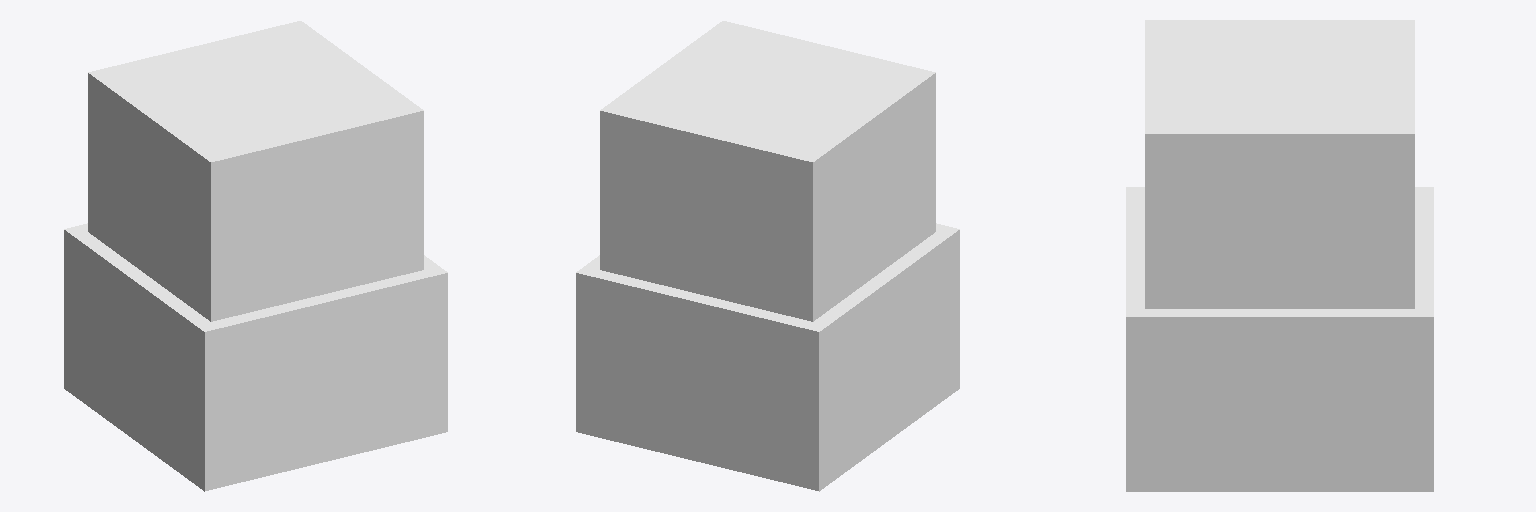
robot.urdf — flat_slab:
<robot name="flat_slab">
	<link name="_name">
		<visual>
			<origin rpy="0 0 0" xyz="0.0 0.0 -0.009558823529411765" />
			<geometry>
				<mesh filename="flat_slab.obj" scale=".001 .001 .001" />
			</geometry>
			<material name="texture">
				<color rgba="1.0 1.0 1.0 1.0" />
			</material>
		</visual>
		<collision>
			<geometry>
				<mesh filename="flat_slab_vhacd.obj" scale=".001 .001 .001" />
			</geometry>
		<origin rpy="0 0 0" xyz="0.0 0.0 -0.009558823529411765" /></collision>
		<inertial>
			<mass value="1.0" />
			<inertia ixx="1.0" ixy="0.0" ixz="0.0" iyy="1.0" iyz="0.0" izz="1.0" />
		</inertial>
	</link>
</robot>

--- Render facts (derived) ---
The picture shows the robot from 3 angles, left to right: view 1: azimuth 30°, elevation 25°; view 2: azimuth 150°, elevation 25°; view 3: azimuth 270°, elevation 25°; orthographic projection.
Model flat_slab with 1 links and 0 joints (none), rooted at _name, posed all joints at 0.
Visible links, largest first — view 1: _name; view 2: _name; view 3: _name.
Link boxes in pixels (left/top/right/bottom): _name: left=64, top=21, right=447, bottom=491; _name: left=576, top=21, right=959, bottom=491; _name: left=1126, top=20, right=1433, bottom=491.
Size in the robot's own frame: 0.016 by 0.016 by 0.02 metres.
1 mesh visuals loaded from 1 distinct referenced files (1 OBJ).